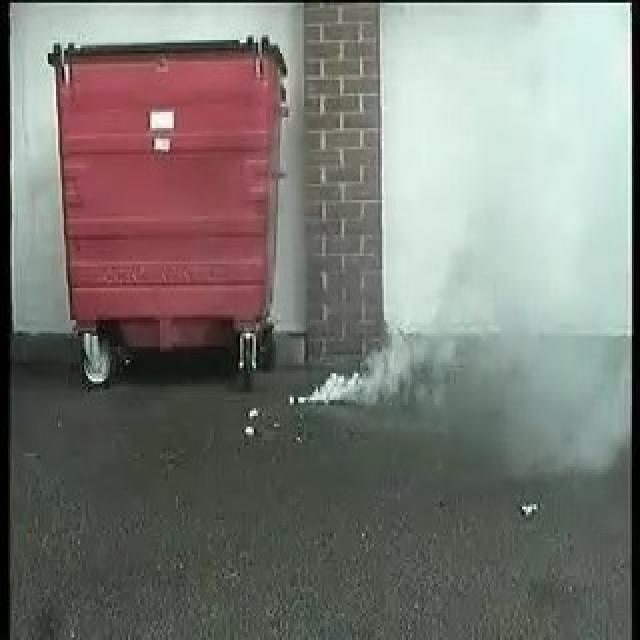smoke: (310, 314, 460, 426)
